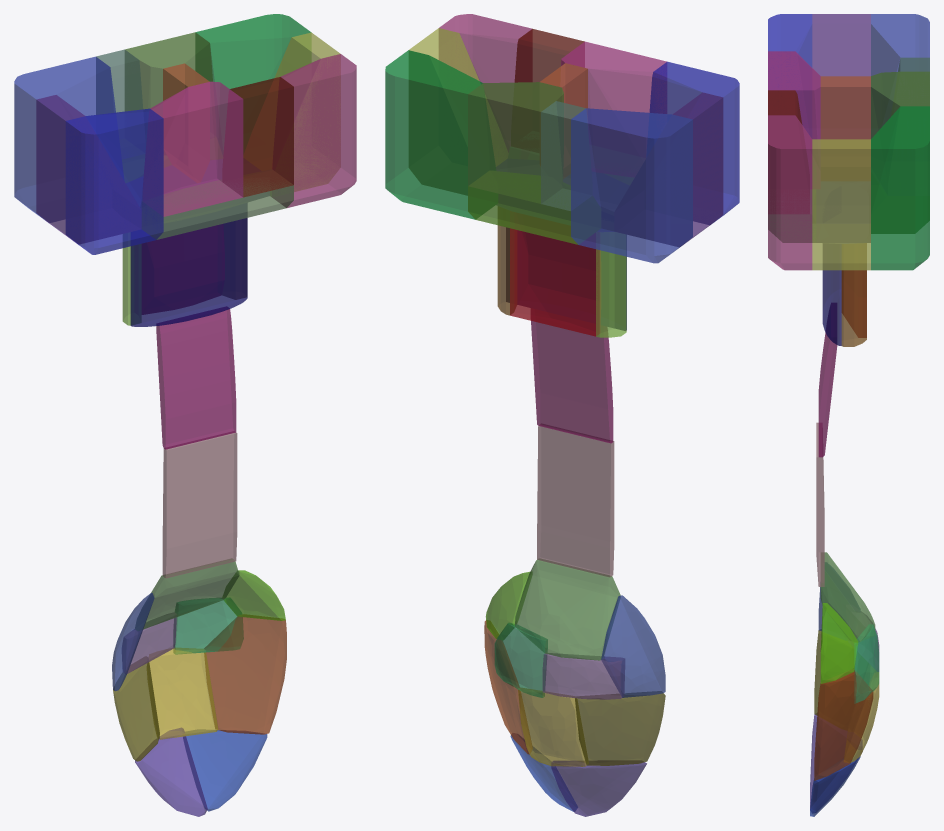
Rendered from Holder_Spoon.obj.
3 views of the same model, side by side, from view 1: azimuth 30°, elevation 25°; view 2: azimuth 150°, elevation 25°; view 3: azimuth 270°, elevation 25° (orthographic). The views are drawn at different scales.
Parts seen in each view (by area): view 1: Shape_IndexedFaceSet.009_Shape_IndexedFaceSet.044, Shape_IndexedFaceSet.007_Shape_IndexedFaceSet.042, Shape_IndexedFaceSet.024_Shape_IndexedFaceSet.059, Shape_IndexedFaceSet.006_Shape_IndexedFaceSet.041, Shape_IndexedFaceSet.010_Shape_IndexedFaceSet.045, Shape_IndexedFaceSet.004_Shape_IndexedFaceSet.039, Shape_IndexedFaceSet.002_Shape_IndexedFaceSet.037, Shape_IndexedFaceSet.003_Shape_IndexedFaceSet.038, Shape_IndexedFaceSet.005_Shape_IndexedFaceSet.040, Shape_IndexedFaceSet.001_Shape_IndexedFaceSet.036, Shape_IndexedFaceSet.029_Shape_IndexedFaceSet.064, Shape_IndexedFaceSet.025_Shape_IndexedFaceSet.060 (+18 smaller); view 2: Shape_IndexedFaceSet.006_Shape_IndexedFaceSet.041, Shape_IndexedFaceSet.001_Shape_IndexedFaceSet.036, Shape_IndexedFaceSet.010_Shape_IndexedFaceSet.045, Shape_IndexedFaceSet.018_Shape_IndexedFaceSet.053, Shape_IndexedFaceSet.002_Shape_IndexedFaceSet.037, Shape_IndexedFaceSet.005_Shape_IndexedFaceSet.040, Shape_IndexedFaceSet.009_Shape_IndexedFaceSet.044, Shape_IndexedFaceSet.013_Shape_IndexedFaceSet.048, Shape_IndexedFaceSet.003_Shape_IndexedFaceSet.038, Shape_IndexedFaceSet.024_Shape_IndexedFaceSet.059, Shape_IndexedFaceSet_Shape_IndexedFaceSet.035, Shape_IndexedFaceSet.007_Shape_IndexedFaceSet.042 (+17 smaller); view 3: Shape_IndexedFaceSet.001_Shape_IndexedFaceSet.036, Shape_IndexedFaceSet.005_Shape_IndexedFaceSet.040, Shape_IndexedFaceSet.010_Shape_IndexedFaceSet.045, Shape_IndexedFaceSet.018_Shape_IndexedFaceSet.053, Shape_IndexedFaceSet.004_Shape_IndexedFaceSet.039, Shape_IndexedFaceSet.026_Shape_IndexedFaceSet.061, Shape_IndexedFaceSet.029_Shape_IndexedFaceSet.064, Shape_IndexedFaceSet.025_Shape_IndexedFaceSet.060, Shape_IndexedFaceSet.006_Shape_IndexedFaceSet.041, Shape_IndexedFaceSet.024_Shape_IndexedFaceSet.059, Shape_IndexedFaceSet.009_Shape_IndexedFaceSet.044, Shape_IndexedFaceSet.023_Shape_IndexedFaceSet.058 (+17 smaller).
Boxes of the visible parts, x1,y1,x2,y2 form: Shape_IndexedFaceSet.009_Shape_IndexedFaceSet.044: (65,108,163,254); Shape_IndexedFaceSet.007_Shape_IndexedFaceSet.042: (130,203,247,326); Shape_IndexedFaceSet.024_Shape_IndexedFaceSet.059: (143,81,243,216); Shape_IndexedFaceSet.006_Shape_IndexedFaceSet.041: (14,56,123,222); Shape_IndexedFaceSet.010_Shape_IndexedFaceSet.045: (36,95,141,244); Shape_IndexedFaceSet.004_Shape_IndexedFaceSet.039: (272,54,356,207); Shape_IndexedFaceSet.002_Shape_IndexedFaceSet.037: (162,431,237,578); Shape_IndexedFaceSet.003_Shape_IndexedFaceSet.038: (156,307,236,449); Shape_IndexedFaceSet.005_Shape_IndexedFaceSet.040: (244,32,340,196); Shape_IndexedFaceSet.001_Shape_IndexedFaceSet.036: (195,14,311,153); Shape_IndexedFaceSet.029_Shape_IndexedFaceSet.064: (204,615,286,734); Shape_IndexedFaceSet.025_Shape_IndexedFaceSet.060: (223,77,293,197); Shape_IndexedFaceSet.006_Shape_IndexedFaceSet.041: (571,108,692,263); Shape_IndexedFaceSet.001_Shape_IndexedFaceSet.036: (385,50,497,219); Shape_IndexedFaceSet.010_Shape_IndexedFaceSet.045: (615,92,723,246); Shape_IndexedFaceSet.018_Shape_IndexedFaceSet.053: (468,82,563,203); Shape_IndexedFaceSet.002_Shape_IndexedFaceSet.037: (537,424,614,577); Shape_IndexedFaceSet.005_Shape_IndexedFaceSet.040: (409,28,507,194); Shape_IndexedFaceSet.009_Shape_IndexedFaceSet.044: (647,61,739,224); Shape_IndexedFaceSet.013_Shape_IndexedFaceSet.048: (510,212,600,336); Shape_IndexedFaceSet.003_Shape_IndexedFaceSet.038: (531,309,613,443); Shape_IndexedFaceSet.024_Shape_IndexedFaceSet.059: (561,41,666,176); Shape_IndexedFaceSet_Shape_IndexedFaceSet.035: (515,558,620,660); Shape_IndexedFaceSet.007_Shape_IndexedFaceSet.042: (506,228,626,330); Shape_IndexedFaceSet.001_Shape_IndexedFaceSet.036: (871,106,929,270); Shape_IndexedFaceSet.005_Shape_IndexedFaceSet.040: (812,139,870,270); Shape_IndexedFaceSet.010_Shape_IndexedFaceSet.045: (812,14,870,138); Shape_IndexedFaceSet.018_Shape_IndexedFaceSet.053: (871,71,929,195); Shape_IndexedFaceSet.004_Shape_IndexedFaceSet.039: (768,115,812,270); Shape_IndexedFaceSet.026_Shape_IndexedFaceSet.061: (820,76,870,180); Shape_IndexedFaceSet.029_Shape_IndexedFaceSet.064: (814,669,873,780); Shape_IndexedFaceSet.025_Shape_IndexedFaceSet.060: (768,90,809,213); Shape_IndexedFaceSet.006_Shape_IndexedFaceSet.041: (871,14,929,137); Shape_IndexedFaceSet.024_Shape_IndexedFaceSet.059: (768,51,820,188); Shape_IndexedFaceSet.009_Shape_IndexedFaceSet.044: (768,14,812,137); Shape_IndexedFaceSet.023_Shape_IndexedFaceSet.058: (814,630,868,729).
Size of the model in its own units: 0.0805 by 0.2034 by 0.0408.
